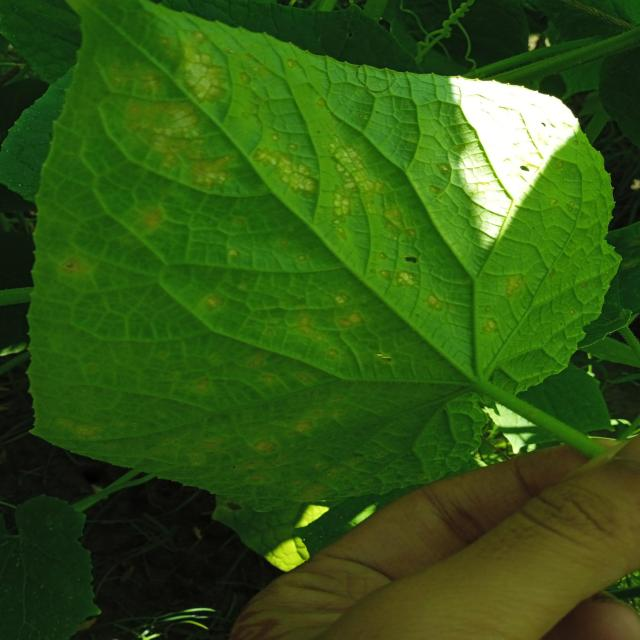cucumber_downy: (57, 0, 582, 531)
